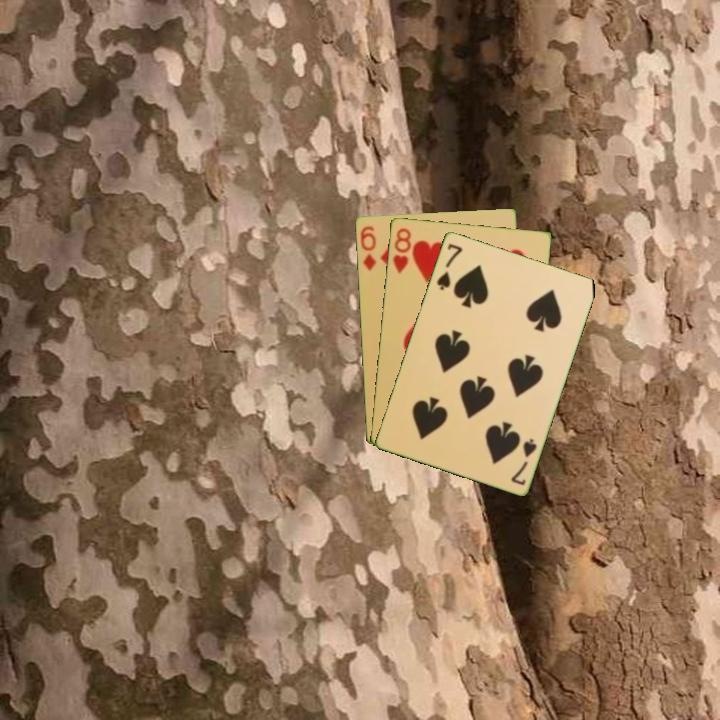6d: (356, 222, 378, 273)
7s: (507, 434, 539, 488), (433, 240, 465, 293)
8h: (389, 224, 414, 276)
